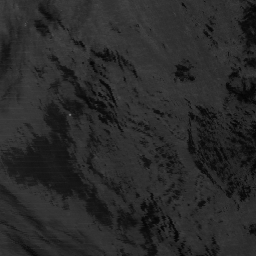Target: (67, 112, 73, 118)
